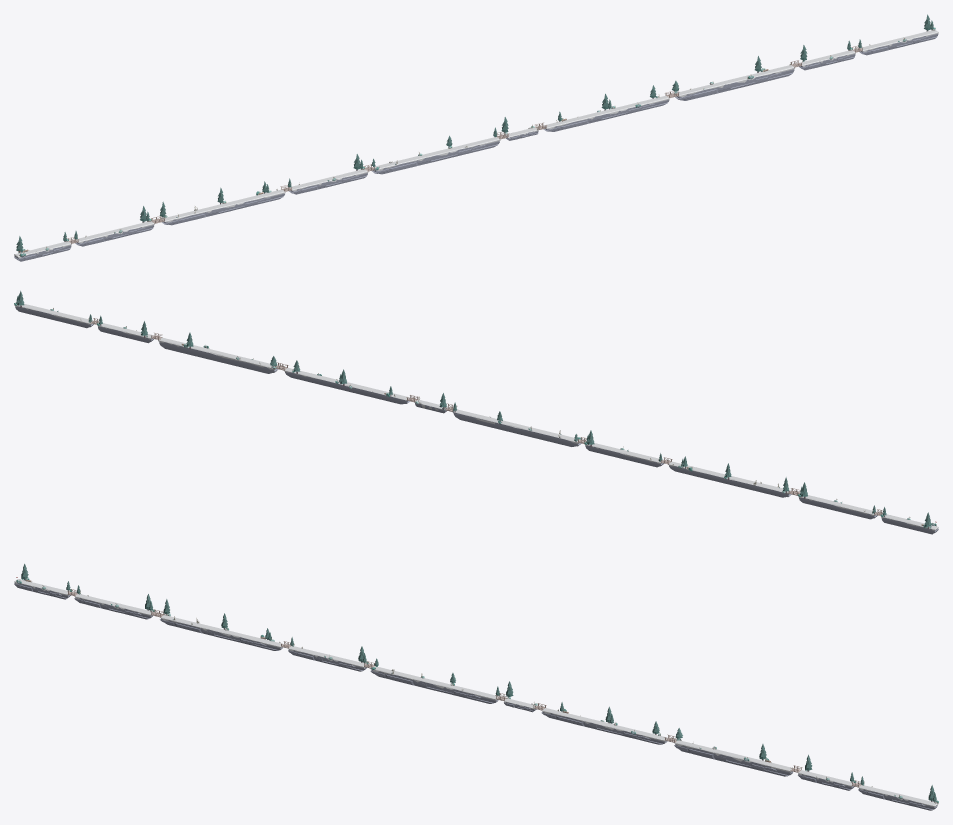
File: Mountain_Lvl_7.fbx
3 views of the same model, one above another, from view 1: azimuth 30°, elevation 25°; view 2: azimuth 150°, elevation 25°; view 3: azimuth 330°, elevation 25° (orthographic).
Parts seen in each view (by area): view 1: polySurface11136; view 2: polySurface11136; view 3: polySurface11136.
Boxes of the visible parts, <box> form: polySurface11136: <box>14,14,938,261</box>; polySurface11136: <box>14,290,938,534</box>; polySurface11136: <box>14,563,938,810</box>.
Size of the model in its own units: 1025 by 26.59 by 14.83.
